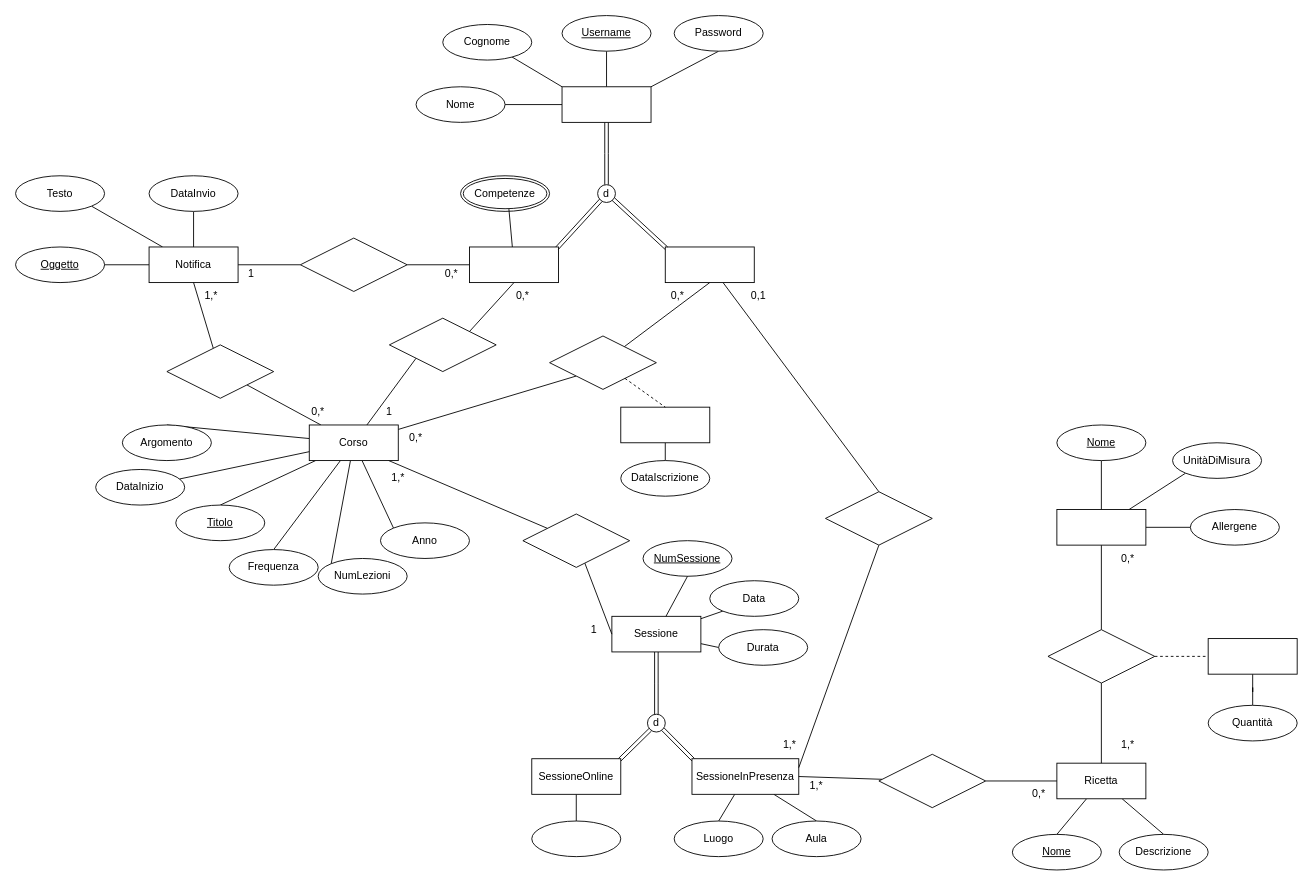
Some shapes in this 1313 by 886 pixel diagram are drawn without their labels. The shapes that lost their labels are listed below. From the top down, each one's centre as x and y in pixels, then its label:
At pixel 606 104: "Persona".
At pixel 353 264: "invia".
At pixel 513 264: "Chef".
At pixel 709 264: "Utente".
At pixel 442 344: "tiene".
At pixel 602 362: "è iscritto a".
At pixel 220 371: "afferisce a".
At pixel 665 424: "Iscrizione".
At pixel 878 518: "aderisce a".
At pixel 1101 527: "Ingrediente".
At pixel 576 540: "è composto da".
At pixel 1101 656: "è composta da".
At pixel 1252 656: "Composizione".
At pixel 932 780: "si prepara".
At pixel 576 838: "Link".
